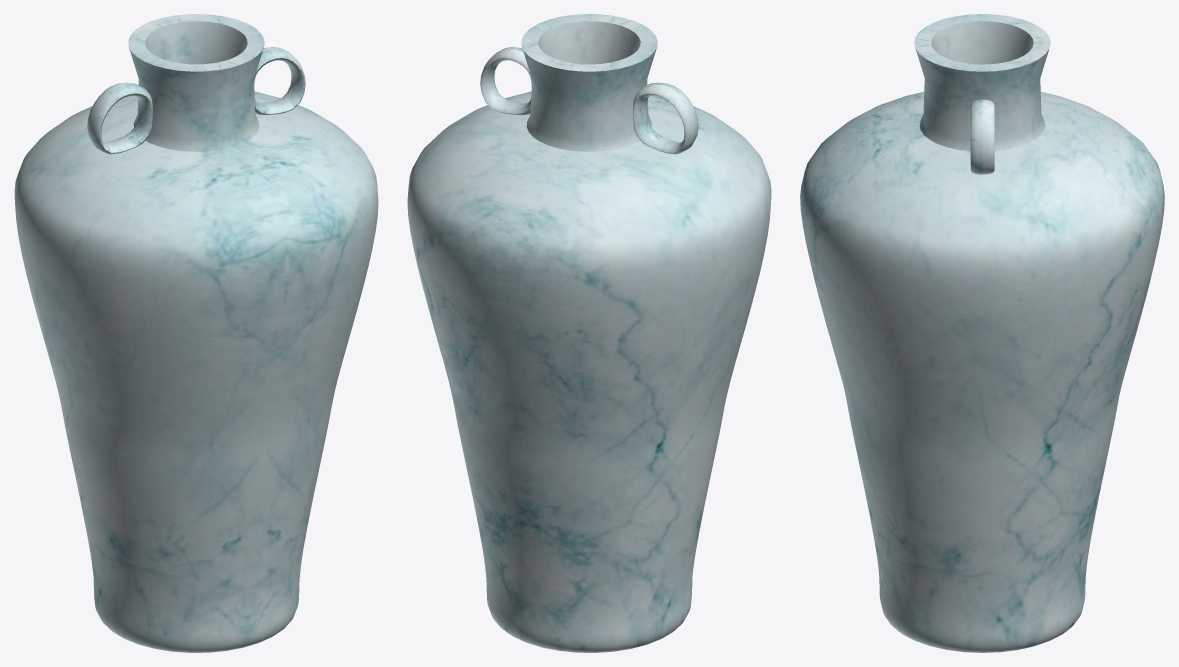
The picture shows the model from 3 angles, left to right: view 1: azimuth 30°, elevation 25°; view 2: azimuth 150°, elevation 25°; view 3: azimuth 270°, elevation 25°; orthographic projection.
Parts seen in each view (by area): view 1: Object_2; view 2: Object_2; view 3: Object_2.
Boxes of the visible parts, <box> form: Object_2: <box>14,14,378,652</box>; Object_2: <box>407,14,771,652</box>; Object_2: <box>800,14,1164,652</box>.
Bounding box in the file's own units: 60.99 × 106 × 60.99.
1 material, 1 textured.
